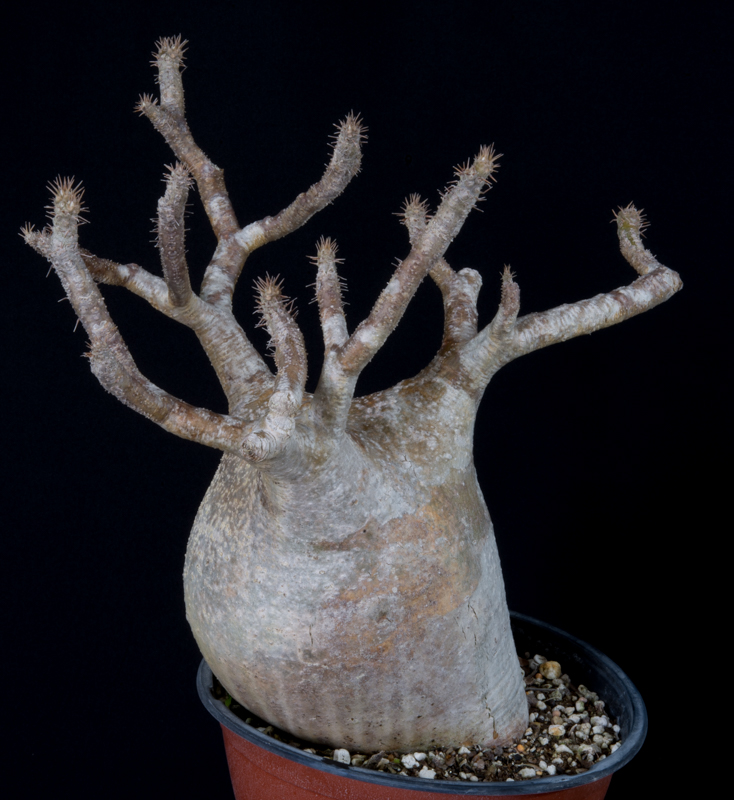Pachypodium rosulatum: (72, 118, 630, 764)
